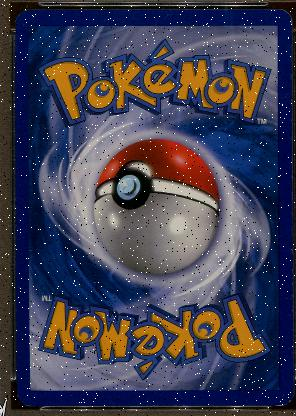Card: (11, 8, 293, 408)
Corner Wear: (271, 392, 294, 406), (15, 394, 36, 406), (279, 8, 292, 26)
Edge Wear: (289, 130, 292, 260), (289, 266, 292, 320), (289, 26, 291, 84)
Scratch: (13, 8, 30, 22), (157, 10, 174, 18), (280, 90, 289, 100), (276, 118, 287, 122), (152, 18, 157, 26), (17, 285, 23, 291), (170, 316, 175, 322)
